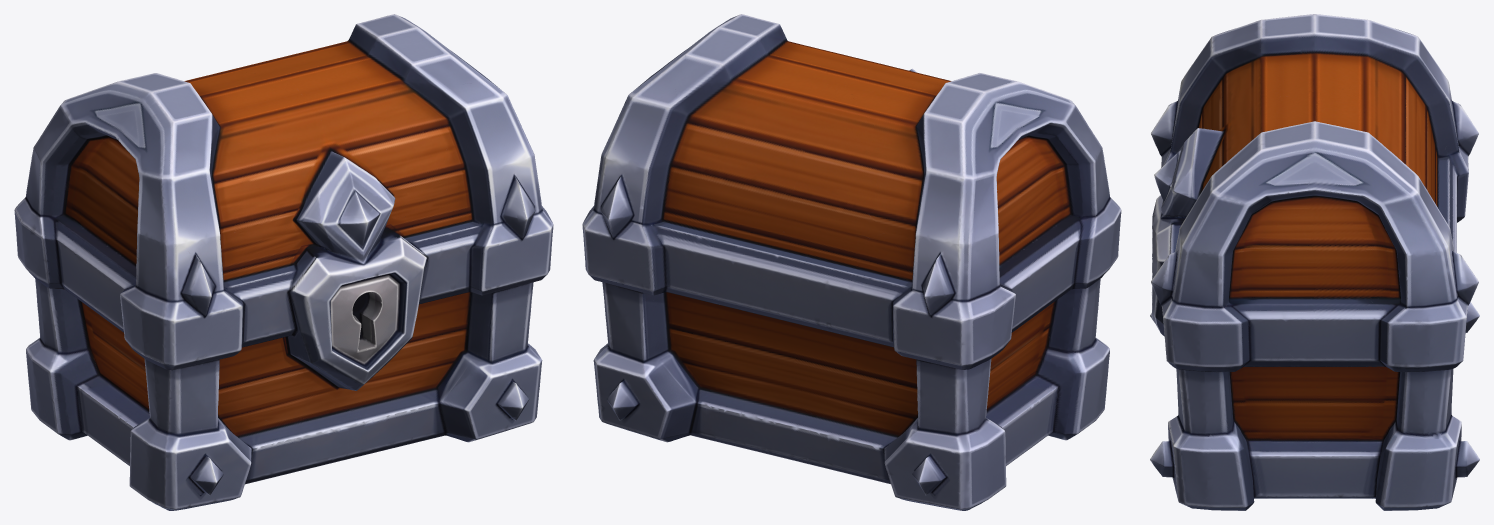
File: Bau_Comun.glb
The picture shows the model from 3 angles, left to right: view 1: azimuth 30°, elevation 25°; view 2: azimuth 150°, elevation 25°; view 3: azimuth 270°, elevation 25°; orthographic projection. The views are drawn at different scales.
Bounding box in the file's own units: 1.9 × 1.63 × 1.39.
1 material, 1 textured.
